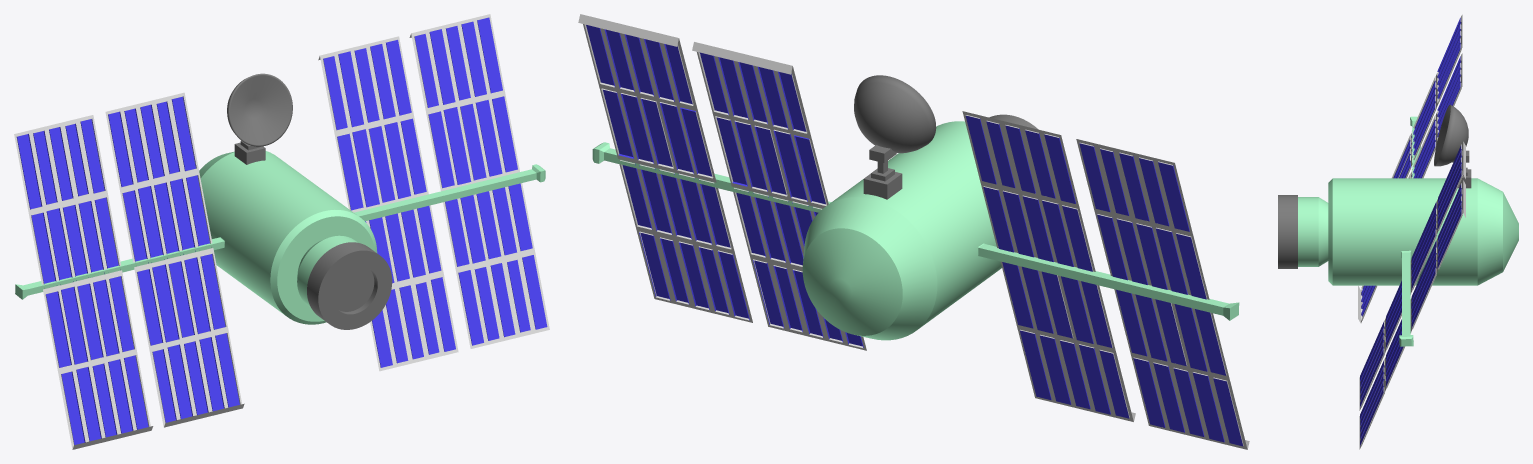
File: station_spatiale.glb
3 views of the same model, side by side, from view 1: azimuth 30°, elevation 25°; view 2: azimuth 150°, elevation 25°; view 3: azimuth 270°, elevation 25° (orthographic). The views are drawn at different scales.
Visible parts, largest first — view 1: panneau_solaire.001, panneau_solaire, coque_principale, antenne_satelite; view 2: panneau_solaire.001, panneau_solaire, coque_principale, antenne_satelite; view 3: coque_principale, panneau_solaire, panneau_solaire.001, antenne_satelite.
Boxes of the visible parts, <box> form: panneau_solaire.001: <box>14,92,244,449</box>; panneau_solaire: <box>318,14,549,371</box>; coque_principale: <box>199,151,392,329</box>; antenne_satelite: <box>227,73,292,164</box>; panneau_solaire.001: <box>962,111,1249,449</box>; panneau_solaire: <box>578,14,866,350</box>; coque_principale: <box>802,114,1038,340</box>; antenne_satelite: <box>854,75,936,199</box>; coque_principale: <box>1278,178,1518,285</box>; panneau_solaire: <box>1359,141,1465,449</box>; panneau_solaire.001: <box>1358,15,1462,323</box>; antenne_satelite: <box>1434,104,1471,188</box>.
Size of the model in its own units: 9.69 by 5.01 by 4.49.
